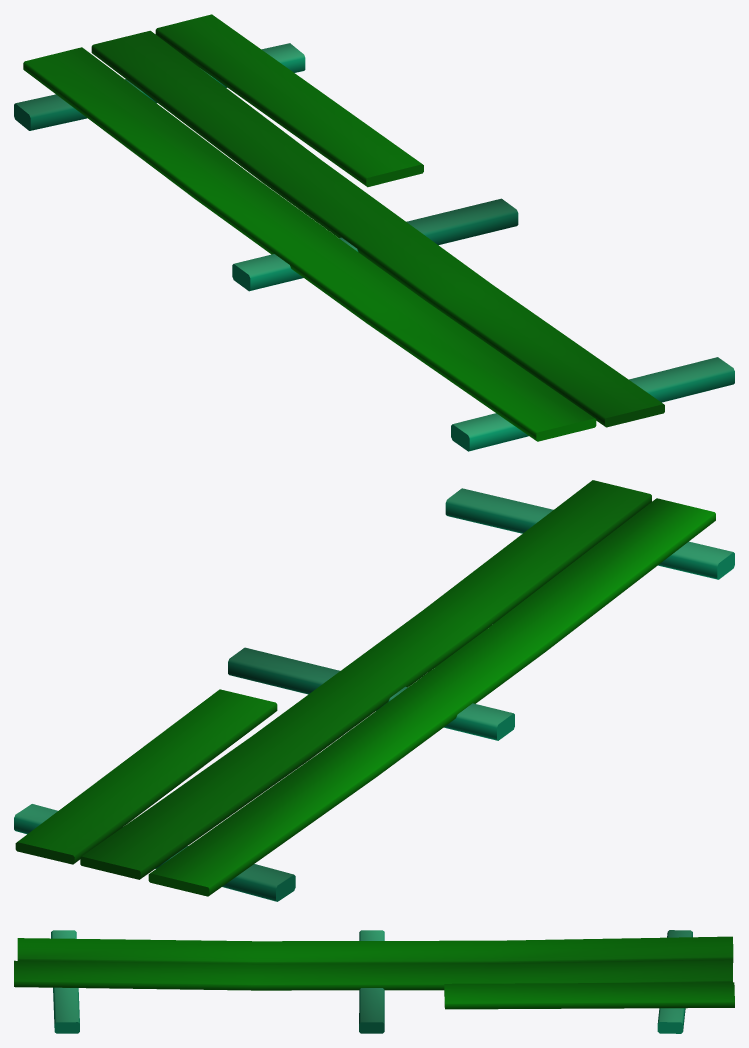
Rendered from plank_walk.glb.
3 renders of one model, top to bottom at view 1: azimuth 30°, elevation 25°; view 2: azimuth 150°, elevation 25°; view 3: azimuth 270°, elevation 25°, orthographic. The views are drawn at different scales.
Visible parts, largest first — view 1: plank_walk; view 2: plank_walk; view 3: plank_walk.
Part boxes in pixels (x1=…): plank_walk: x1=14, y1=14, x2=734, y2=451; plank_walk: x1=14, y1=480, x2=734, y2=901; plank_walk: x1=14, y1=930, x2=734, y2=1033.
Size of what is drawn, in the model's own units: 1.21 by 0.115 by 3.98.
